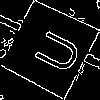U: (24, 23, 84, 77)
